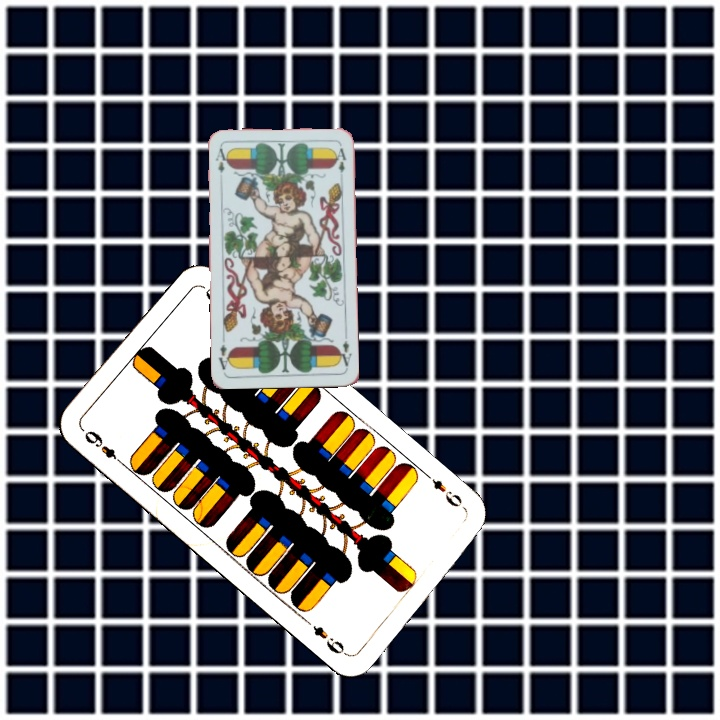E9: (422, 470, 470, 515), (80, 426, 127, 469)
EA: (334, 336, 354, 370), (211, 144, 230, 176)
